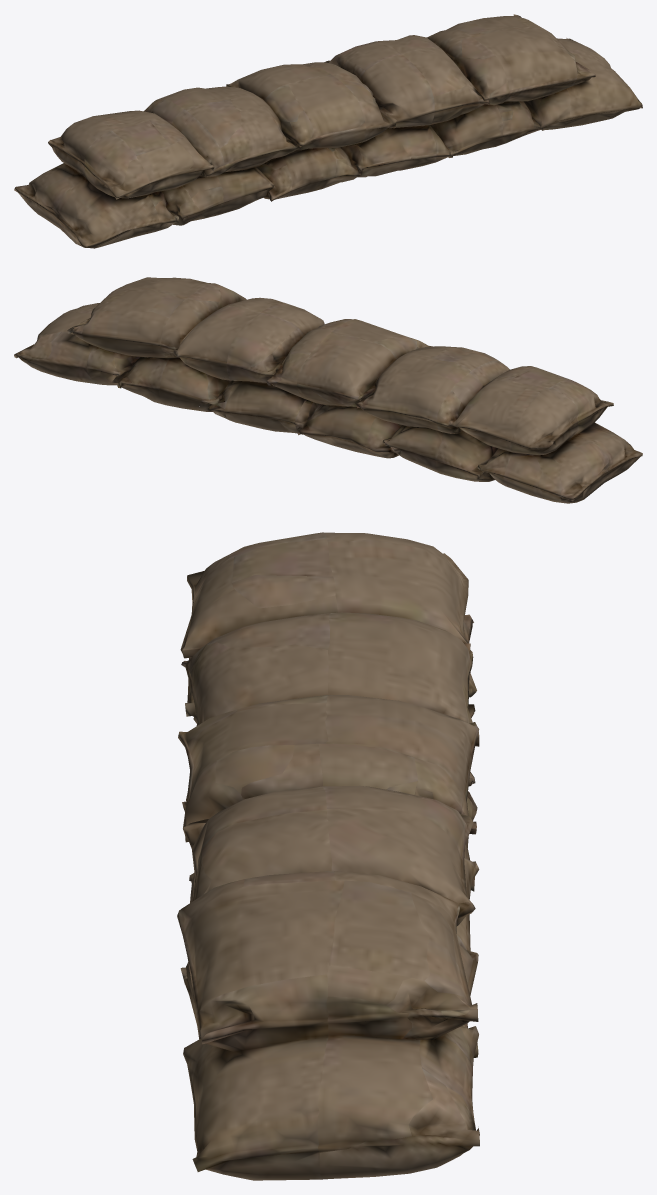
File: veh-j-sandbags.glb
3 views of the same model, one above another, from view 1: azimuth 30°, elevation 25°; view 2: azimuth 150°, elevation 25°; view 3: azimuth 270°, elevation 25° (orthographic). The views are drawn at different scales.
Visible parts, largest first — view 1: tripo_node_be6046ba-8ffa-4fd8-bbfe-5a50606a9eaf; view 2: tripo_node_be6046ba-8ffa-4fd8-bbfe-5a50606a9eaf; view 3: tripo_node_be6046ba-8ffa-4fd8-bbfe-5a50606a9eaf.
Part boxes in pixels (x1,y1,x2,y2): tripo_node_be6046ba-8ffa-4fd8-bbfe-5a50606a9eaf: (14, 14, 642, 248); tripo_node_be6046ba-8ffa-4fd8-bbfe-5a50606a9eaf: (14, 277, 642, 503); tripo_node_be6046ba-8ffa-4fd8-bbfe-5a50606a9eaf: (177, 532, 479, 1180).
Size of the model in its own units: 0.9803 by 0.16 by 0.2304.
1 material, 1 textured.
